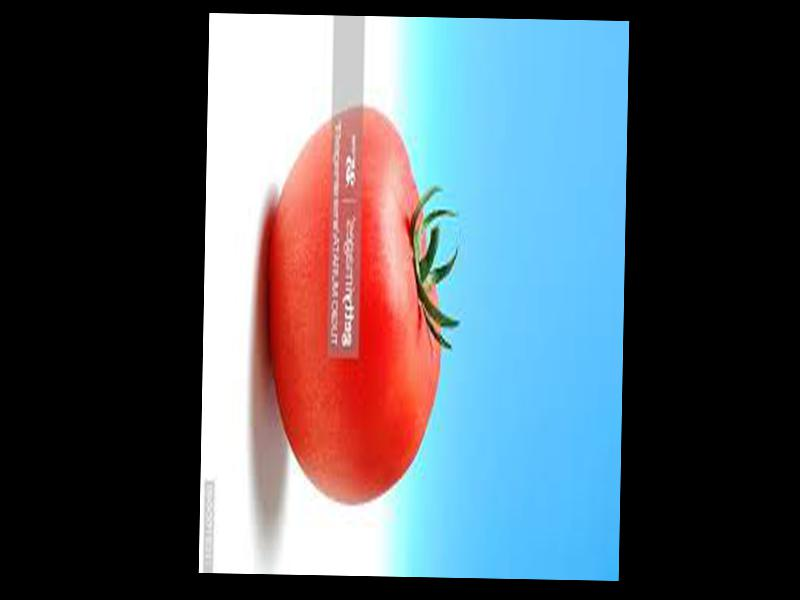Tomato: (266, 102, 444, 503)
